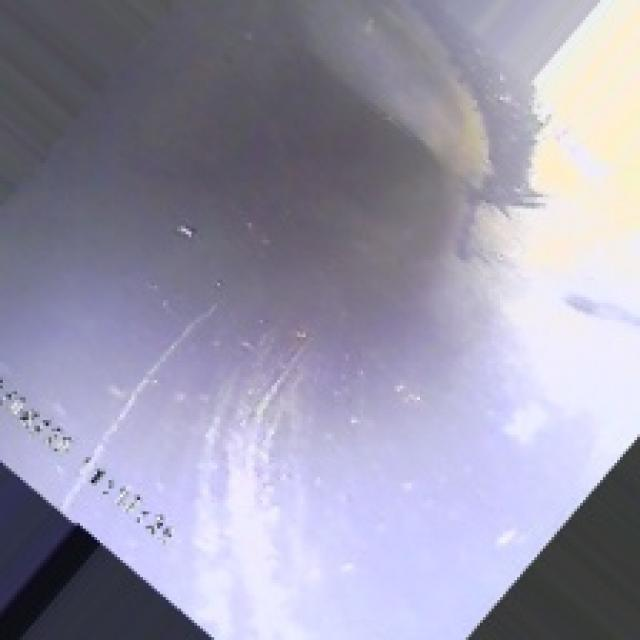shape_deformation: (83, 9, 566, 368)
